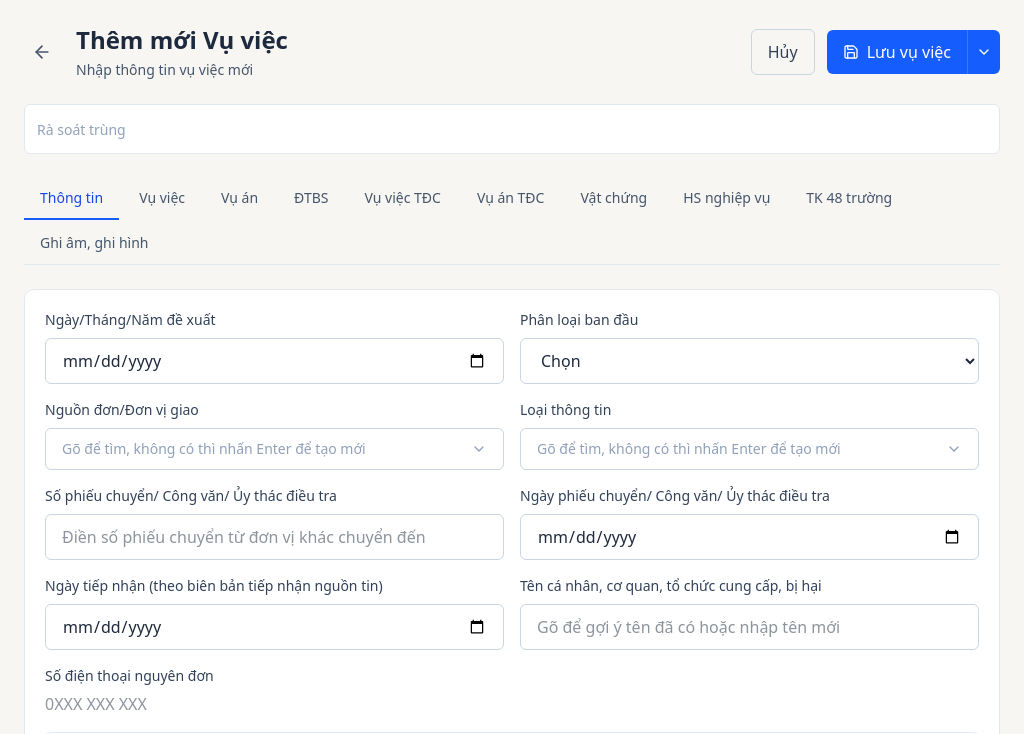
Test: Incident form petition interaction parity › opens the four-field identity group for direct source and keeps phone outside
What coordinates should you click on to do the following:
click the dropdown with test id "field-nguonDon-trigger"
I would click on:
 (274, 449)
Its box is x1=45 y1=428 x2=504 y2=470.
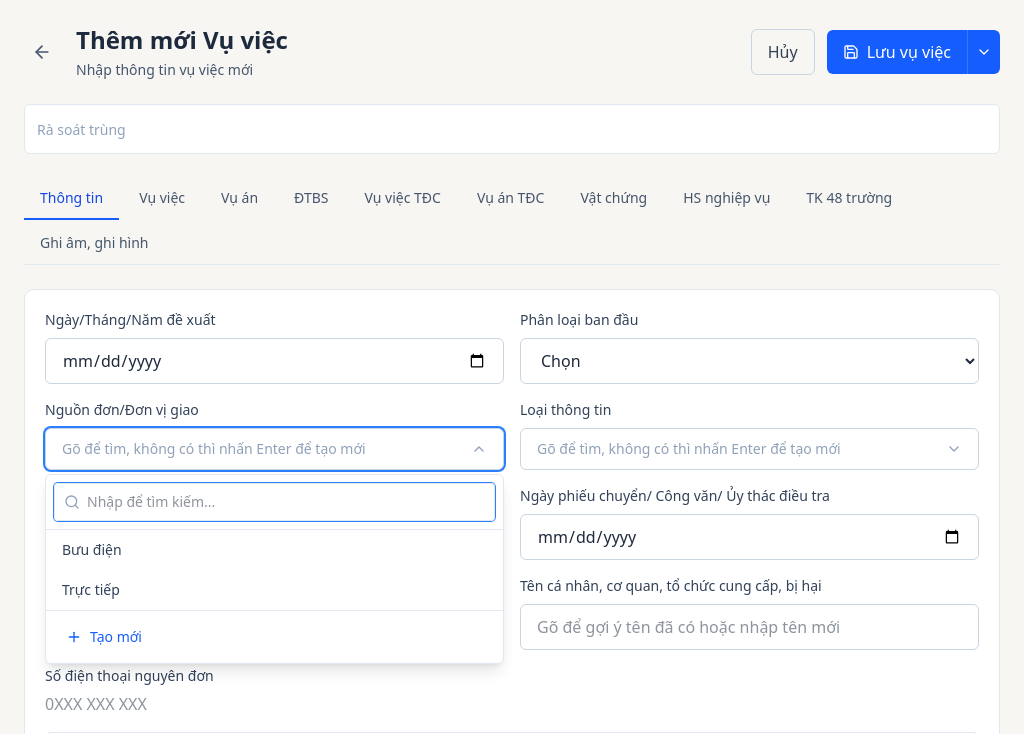
What coordinates should you click on to do the following:
click the option with test id "field-nguonDon-option-Trực tiếp"
I would click on:
 (91, 590)
Its box is x1=46 y1=570 x2=503 y2=610.
(page scrolled)
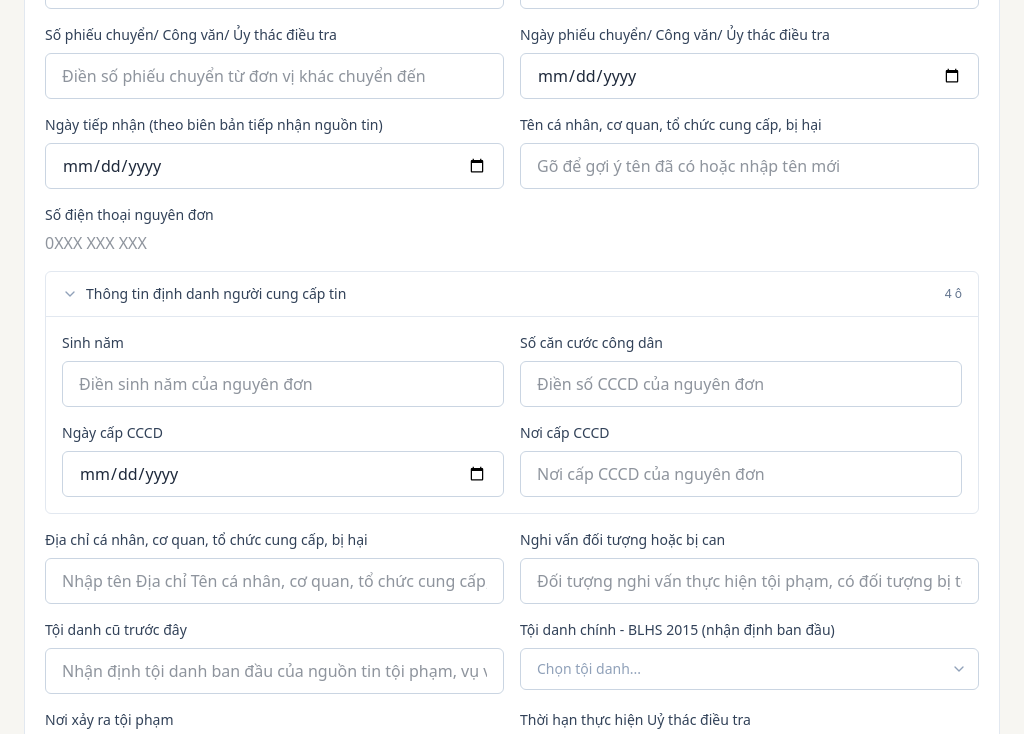
Expected: the field with test id "field-cmndNguoiToGiac" is shown, x1=520 y1=361 x2=962 y2=407
